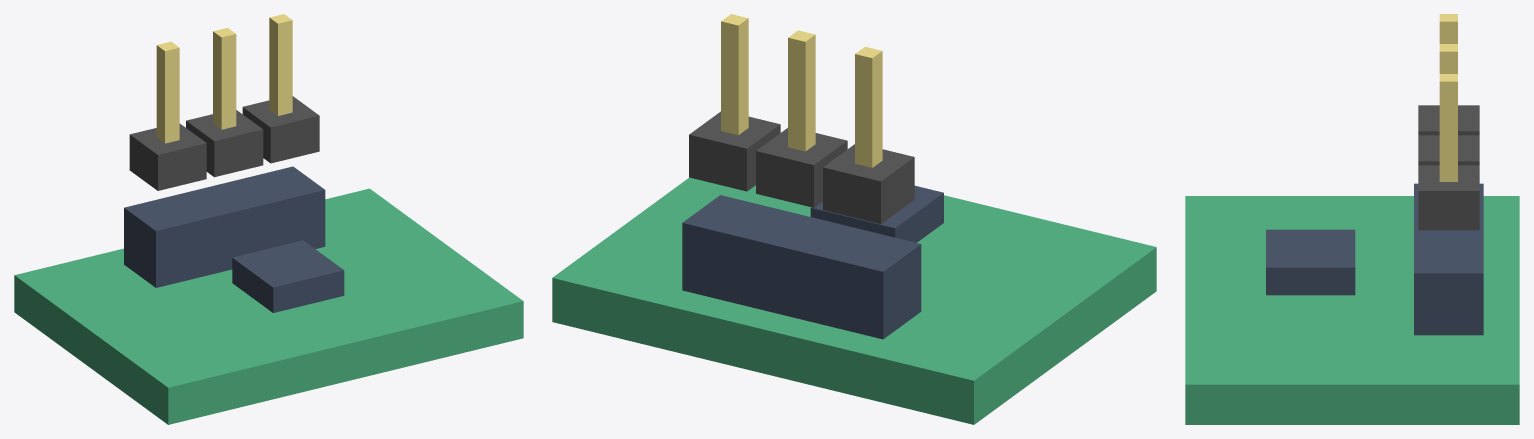
File: regulator-ams1117-3v3.glb
3 renders of one model, left to right at view 1: azimuth 30°, elevation 25°; view 2: azimuth 150°, elevation 25°; view 3: azimuth 270°, elevation 25°, orthographic. The views are drawn at different scales.
Visible parts, largest first — view 1: regulator-ams1117-3v3_mesh; view 2: regulator-ams1117-3v3_mesh; view 3: regulator-ams1117-3v3_mesh.
Boxes of the visible parts, <box> form: regulator-ams1117-3v3_mesh: <box>14,14,523,424</box>; regulator-ams1117-3v3_mesh: <box>552,14,1156,424</box>; regulator-ams1117-3v3_mesh: <box>1185,14,1519,424</box>.
Size of the model in its own units: 16 by 11.2 by 12.
